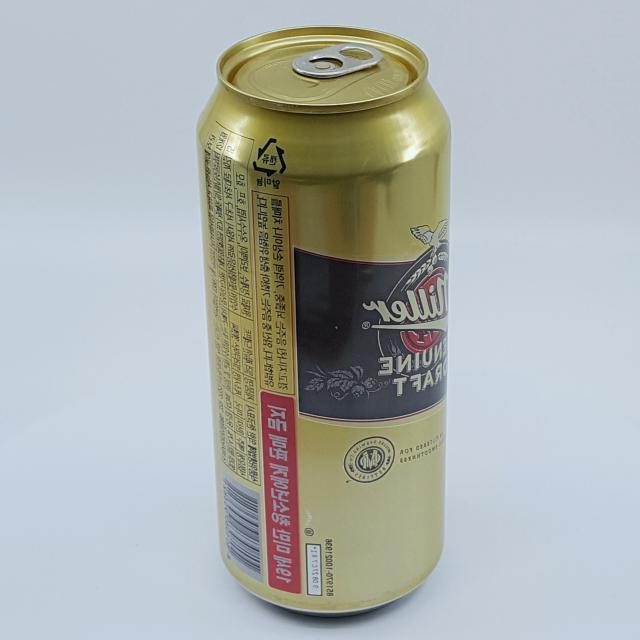metal: (196, 25, 452, 616)
